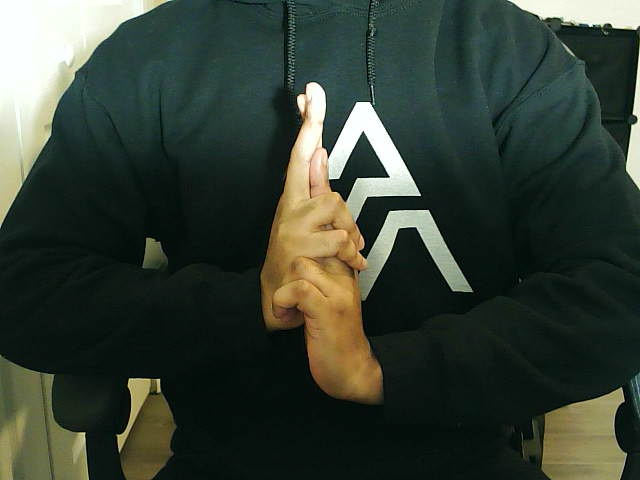Ram: (265, 80, 382, 404)
